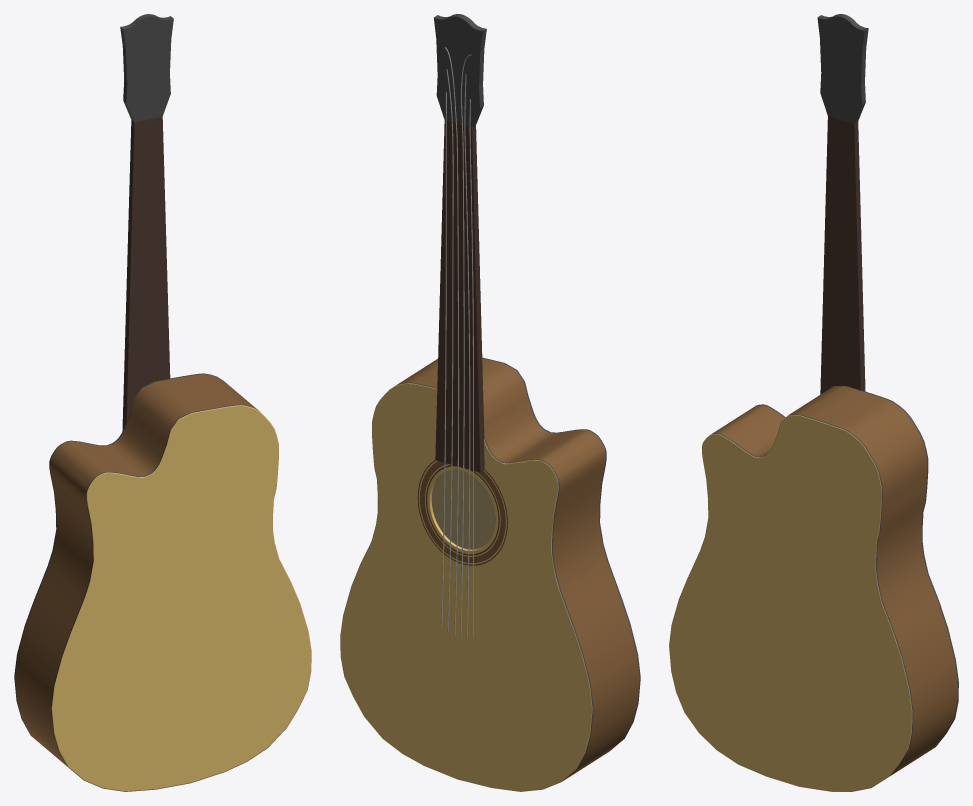
File: guitar.gltf
3 renders of one model, left to right at view 1: azimuth 30°, elevation 25°; view 2: azimuth 150°, elevation 25°; view 3: azimuth 330°, elevation 25°, orthographic. The views are drawn at different scales.
Visible parts, largest first — view 1: guitar_base, guitar_handle; view 2: guitar_base, guitar_handle, guitar_strings; view 3: guitar_base, guitar_handle.
Boxes of the visible parts, x1=… form: guitar_base: x1=14, y1=373, x2=311, y2=791; guitar_handle: x1=120, y1=14, x2=173, y2=431; guitar_base: x1=340, y1=357, x2=640, y2=791; guitar_handle: x1=433, y1=14, x2=486, y2=472; guitar_strings: x1=441, y1=47, x2=473, y2=637; guitar_base: x1=669, y1=386, x2=958, y2=791; guitar_handle: x1=817, y1=14, x2=868, y2=394.
Bounding box in the file's own units: 0.2775 × 0.7632 × 0.096.
